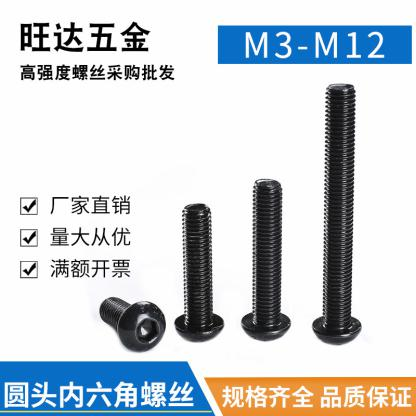FOD: (310, 83, 366, 345), (238, 178, 293, 343), (171, 202, 227, 345), (97, 294, 168, 355)
